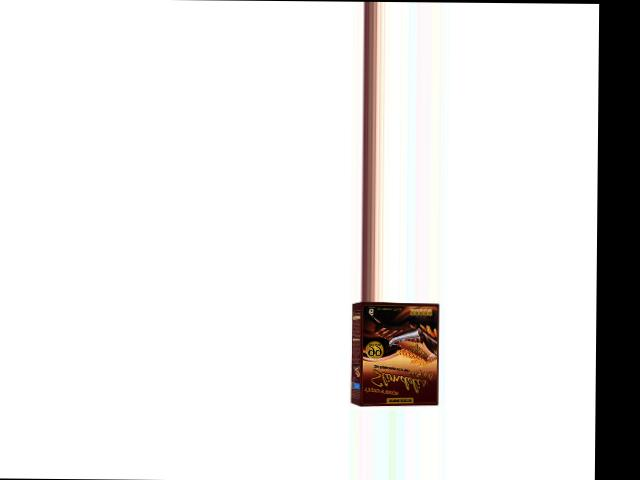chocolate: (345, 301, 448, 408)
